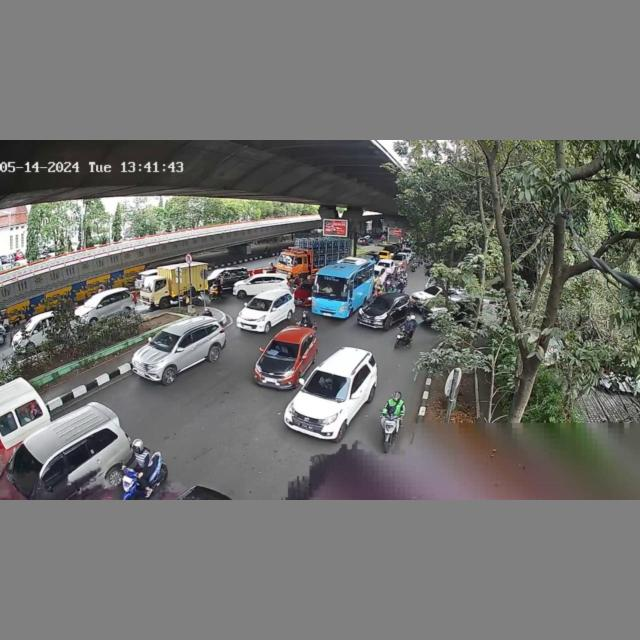windshield: (306, 370, 352, 402), (264, 339, 300, 359), (149, 331, 180, 349), (247, 297, 271, 310), (371, 297, 393, 309)
